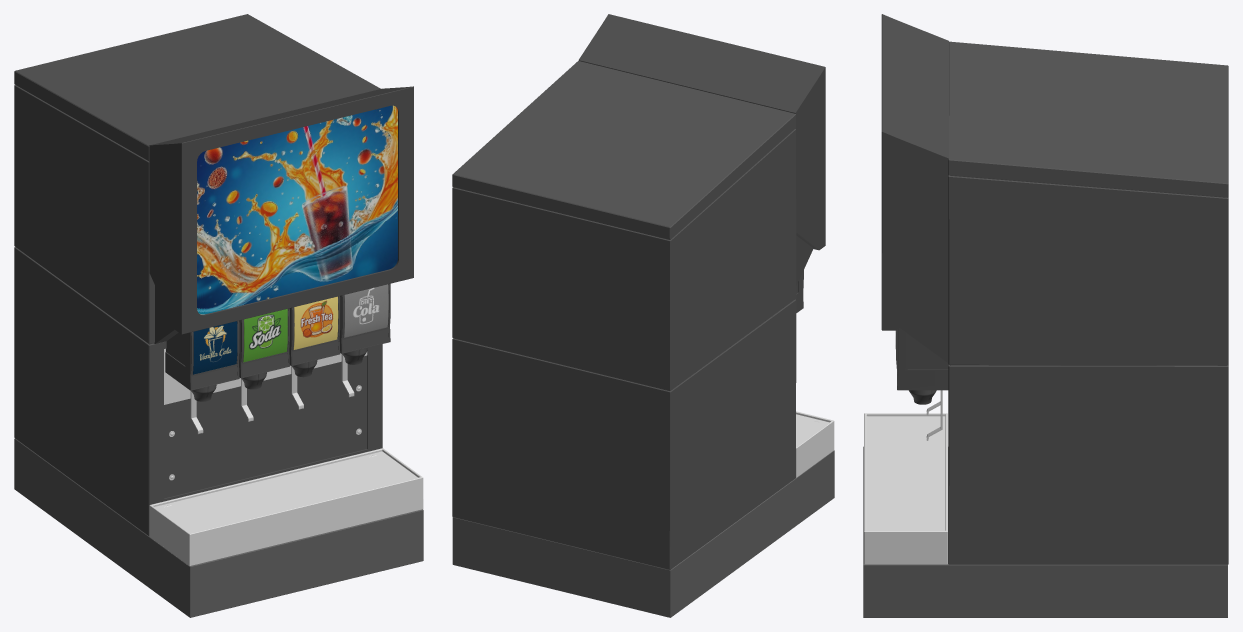
The model's file is automatic_beverage_vending_machine_counter_soda_fountain.fbx.
3 renders of one model, left to right at view 1: azimuth 30°, elevation 25°; view 2: azimuth 150°, elevation 25°; view 3: azimuth 270°, elevation 25°, orthographic. The views are drawn at different scales.
Visible parts, largest first — view 1: Cube25, Cube43, Cube16, Cube34, Cube13, Cube17, Cube31, Cube28, Cube42, Cube41, Cube40, Cube23 (+3 smaller); view 2: Cube25, Cube16, Cube34, Cube13; view 3: Cube25, Cube34, Cube16, Cube17, Cube13, Cube15.
Boxes of the visible parts, box(x1,y1,x2,y2) form: Cube25: box(14, 14, 382, 535); Cube43: box(197, 105, 397, 314); Cube16: box(14, 438, 423, 617); Cube34: box(149, 86, 413, 343); Cube13: box(149, 448, 423, 565); Cube17: box(154, 451, 417, 533); Cube31: box(165, 320, 239, 390); Cube28: box(193, 321, 237, 374); Cube42: box(344, 284, 388, 337); Cube41: box(293, 296, 338, 349); Cube40: box(243, 309, 287, 362); Cube23: box(164, 348, 367, 404); Cube25: box(452, 61, 796, 569); Cube16: box(452, 450, 834, 617); Cube34: box(578, 14, 825, 285); Cube13: box(796, 411, 834, 477); Cube25: box(948, 41, 1228, 564); Cube34: box(881, 14, 948, 362); Cube16: box(863, 446, 1227, 617); Cube17: box(867, 416, 944, 530); Cube13: box(864, 413, 947, 564); Cube15: box(896, 328, 948, 390).
Bounding box in the file's own units: 0.3277 × 0.6268 × 0.4272.
